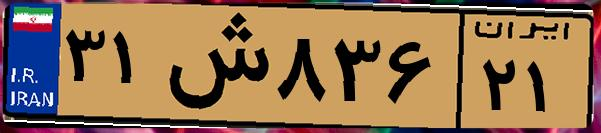1: (525, 38, 570, 115), (110, 28, 158, 98)
2: (475, 38, 525, 113)
3: (330, 28, 385, 110), (57, 26, 110, 100)
6: (385, 28, 445, 110)
8: (270, 28, 330, 110)
ش: (158, 12, 270, 120)
